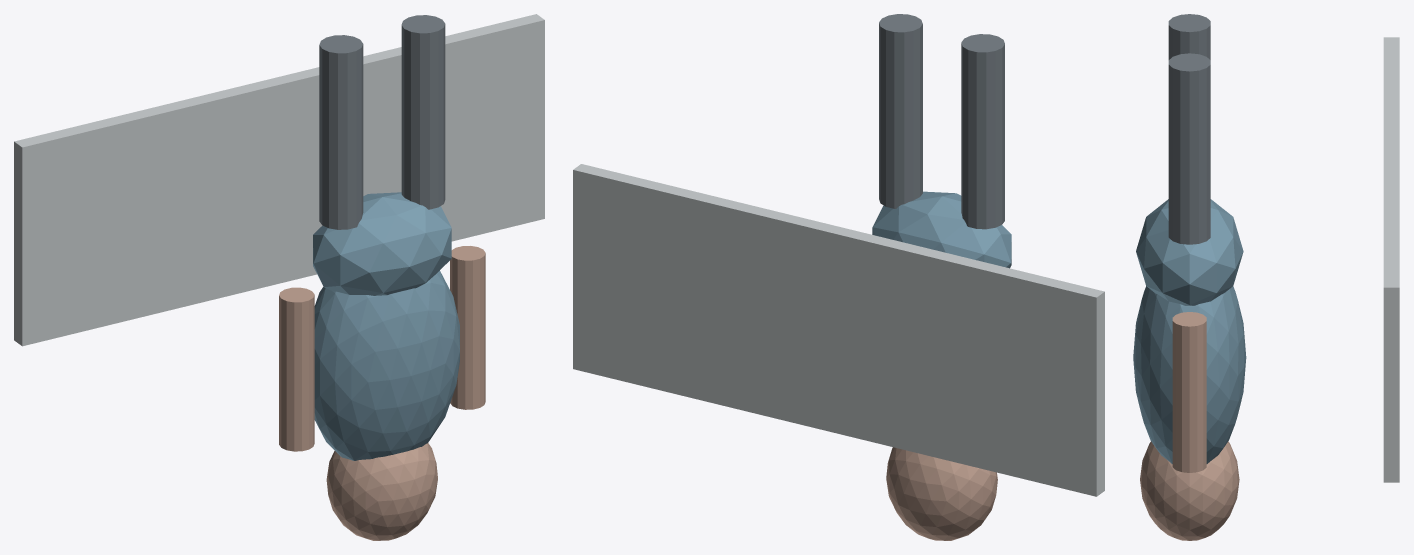
The model's file is dorsal-medium.glb.
The picture shows the model from 3 angles, left to right: view 1: azimuth 30°, elevation 25°; view 2: azimuth 150°, elevation 25°; view 3: azimuth 270°, elevation 25°; orthographic projection. The views are drawn at different scales.
Parts seen in each view (by area): view 1: reference_surface, torso, pelvis, left_leg, right_leg, head, left_arm, right_arm; view 2: reference_surface, left_leg, right_leg, head, pelvis; view 3: torso, right_leg, reference_surface, pelvis, head, right_arm, left_leg.
Part boxes in pixels (bbox=[...]): reference_surface: bbox=[14, 14, 544, 346]; torso: bbox=[314, 270, 459, 460]; pelvis: bbox=[313, 192, 451, 295]; left_leg: bbox=[319, 35, 363, 229]; right_leg: bbox=[401, 15, 445, 209]; head: bbox=[326, 443, 437, 540]; left_arm: bbox=[279, 287, 314, 451]; right_arm: bbox=[450, 246, 485, 409]; reference_surface: bbox=[573, 164, 1104, 496]; left_leg: bbox=[961, 34, 1004, 229]; right_leg: bbox=[879, 14, 922, 208]; head: bbox=[886, 447, 997, 540]; pelvis: bbox=[872, 191, 1011, 268]; torso: bbox=[1133, 286, 1246, 463]; right_leg: bbox=[1168, 53, 1210, 244]; reference_surface: bbox=[1383, 37, 1399, 482]; pelvis: bbox=[1136, 199, 1243, 305]; head: bbox=[1140, 441, 1239, 540]; right_arm: bbox=[1172, 312, 1206, 472]; left_leg: bbox=[1168, 14, 1210, 59].
Bounding box in the file's own units: 4.4 × 4.05 × 1.98.
